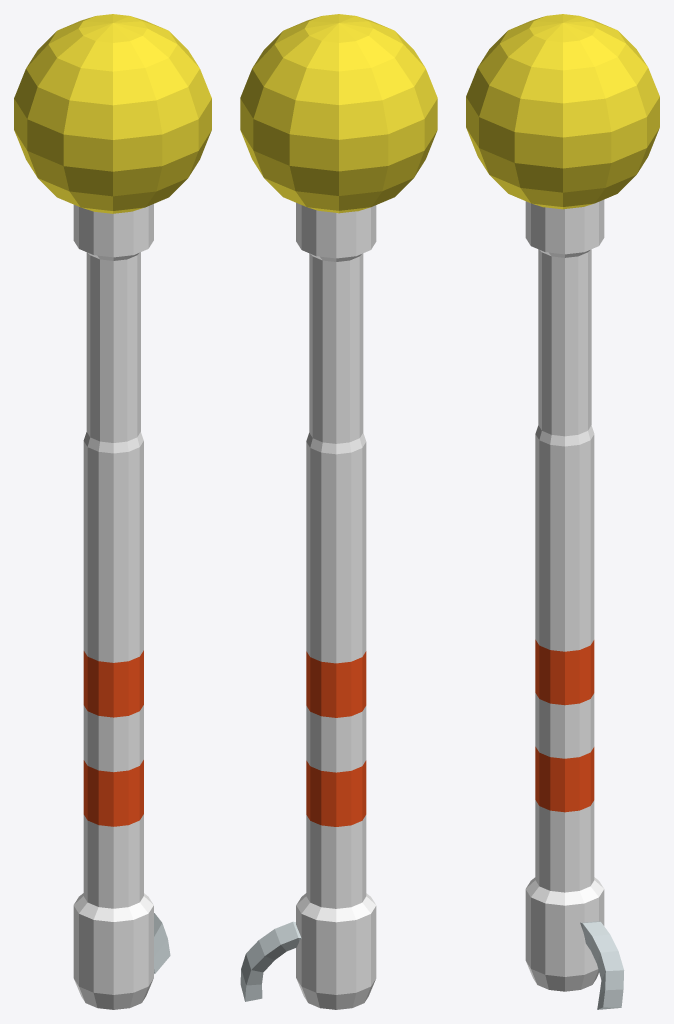
File: park-vendor.glb
The picture shows the model from 3 angles, left to right: view 1: azimuth 30°, elevation 25°; view 2: azimuth 150°, elevation 25°; view 3: azimuth 270°, elevation 25°; orthographic projection. The views are drawn at different scales.
Parts seen in each view (by area): view 1: park-vendor; view 2: park-vendor; view 3: park-vendor.
Boxes of the visible parts, x1,y1,x2,y2 form: park-vendor: [14, 14, 211, 1009]; park-vendor: [240, 14, 437, 1009]; park-vendor: [466, 14, 659, 1009].
Bounding box in the file's own units: 0.0167 × 0.0911 × 0.0167.
